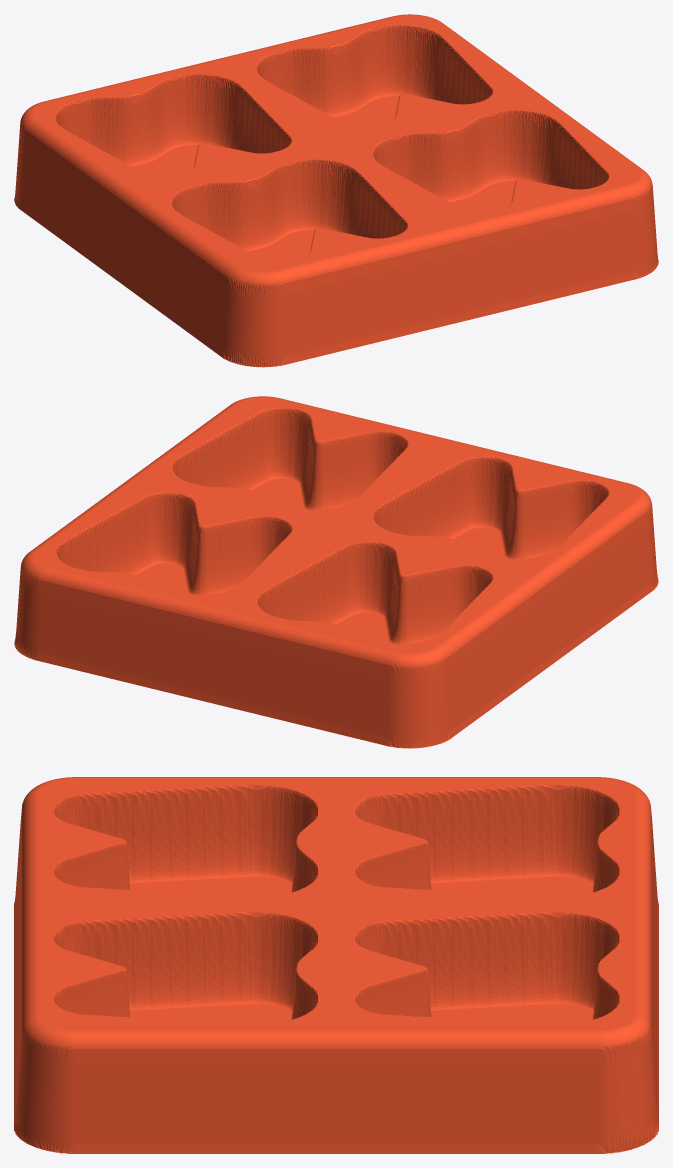
Rendered from mold.glb.
3 views of the same model, one above another, from view 1: azimuth 30°, elevation 25°; view 2: azimuth 150°, elevation 25°; view 3: azimuth 270°, elevation 25° (orthographic). The views are drawn at different scales.
Parts seen in each view (by area): view 1: geometry_0; view 2: geometry_0; view 3: geometry_0.
Part boxes in pixels (x1,y1,x2,y2): geometry_0: (14,14,658,367); geometry_0: (14,396,658,748); geometry_0: (14,777,658,1153).
Size of the model in its own units: 0.0942 by 0.0182 by 0.0942.
